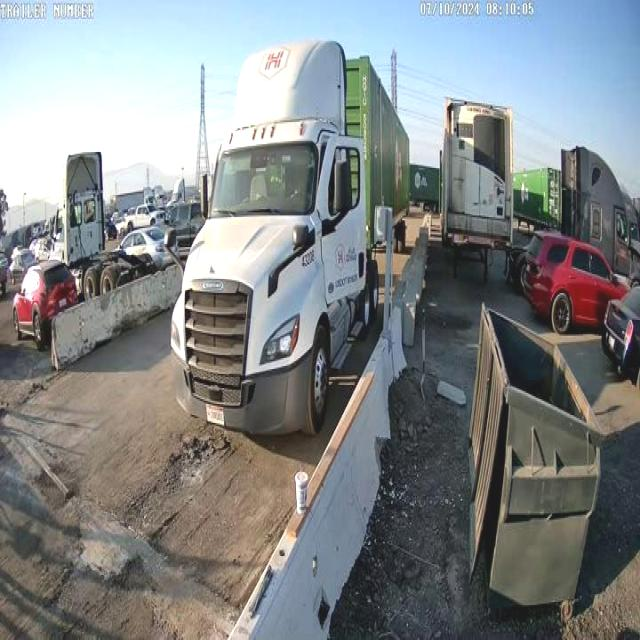CONTAINER: (330, 38, 411, 254)
